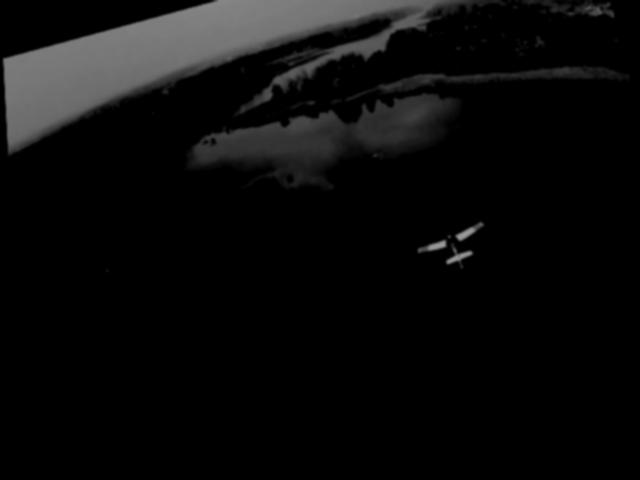hedef: (401, 221, 497, 292)
